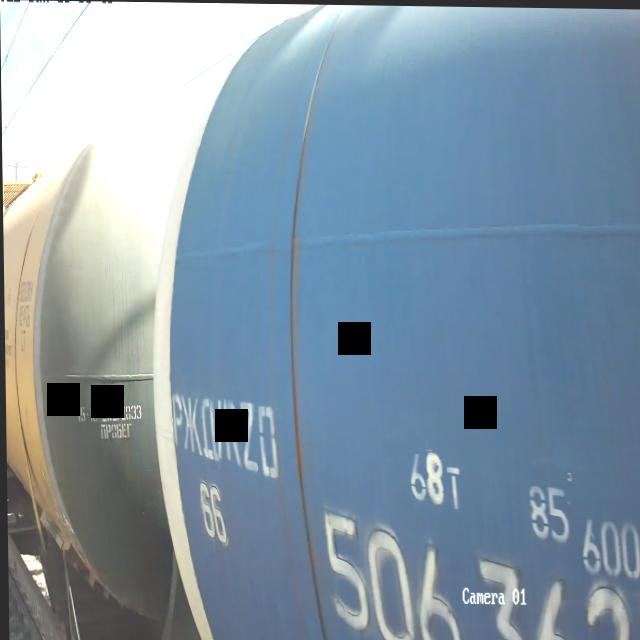tank: (134, 2, 640, 640), (1, 89, 188, 640)
